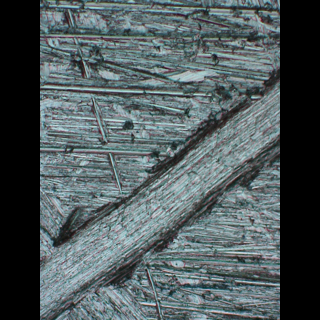d: (40, 60, 278, 320)
